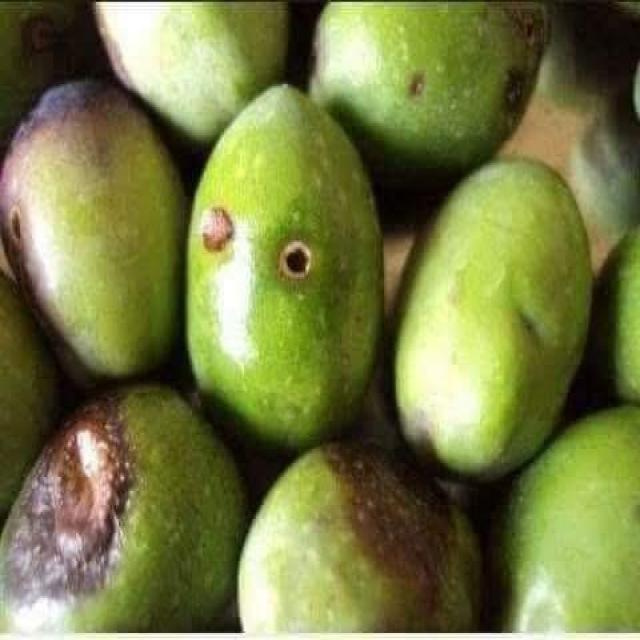Anthracnose: (186, 84, 382, 446), (0, 384, 245, 631), (0, 81, 185, 384), (239, 438, 480, 633), (309, 0, 548, 188)
